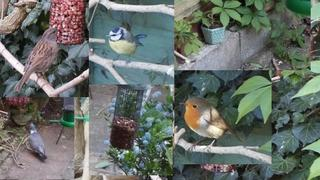blue tit: (106, 27, 148, 67)
dunnock: (14, 27, 62, 92)
robin: (179, 97, 245, 156)
wood pigeon: (28, 124, 48, 160)
